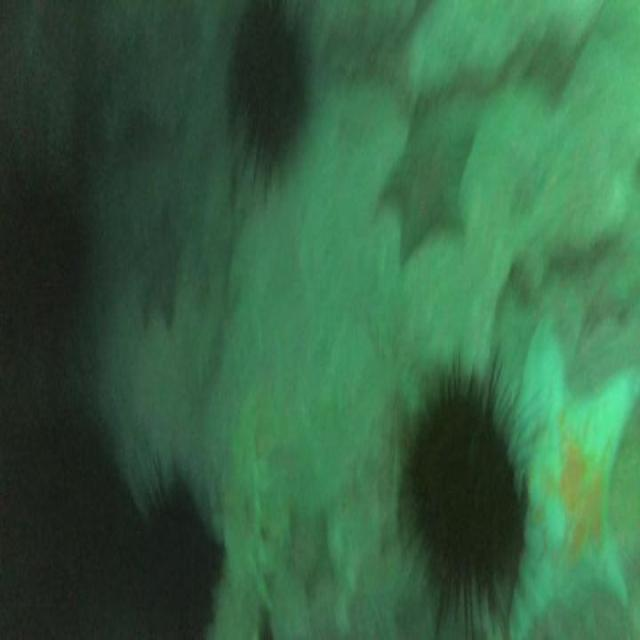echinus: (414, 387, 524, 599), (230, 3, 303, 166)
starfish: (506, 324, 640, 640), (378, 95, 476, 259)
